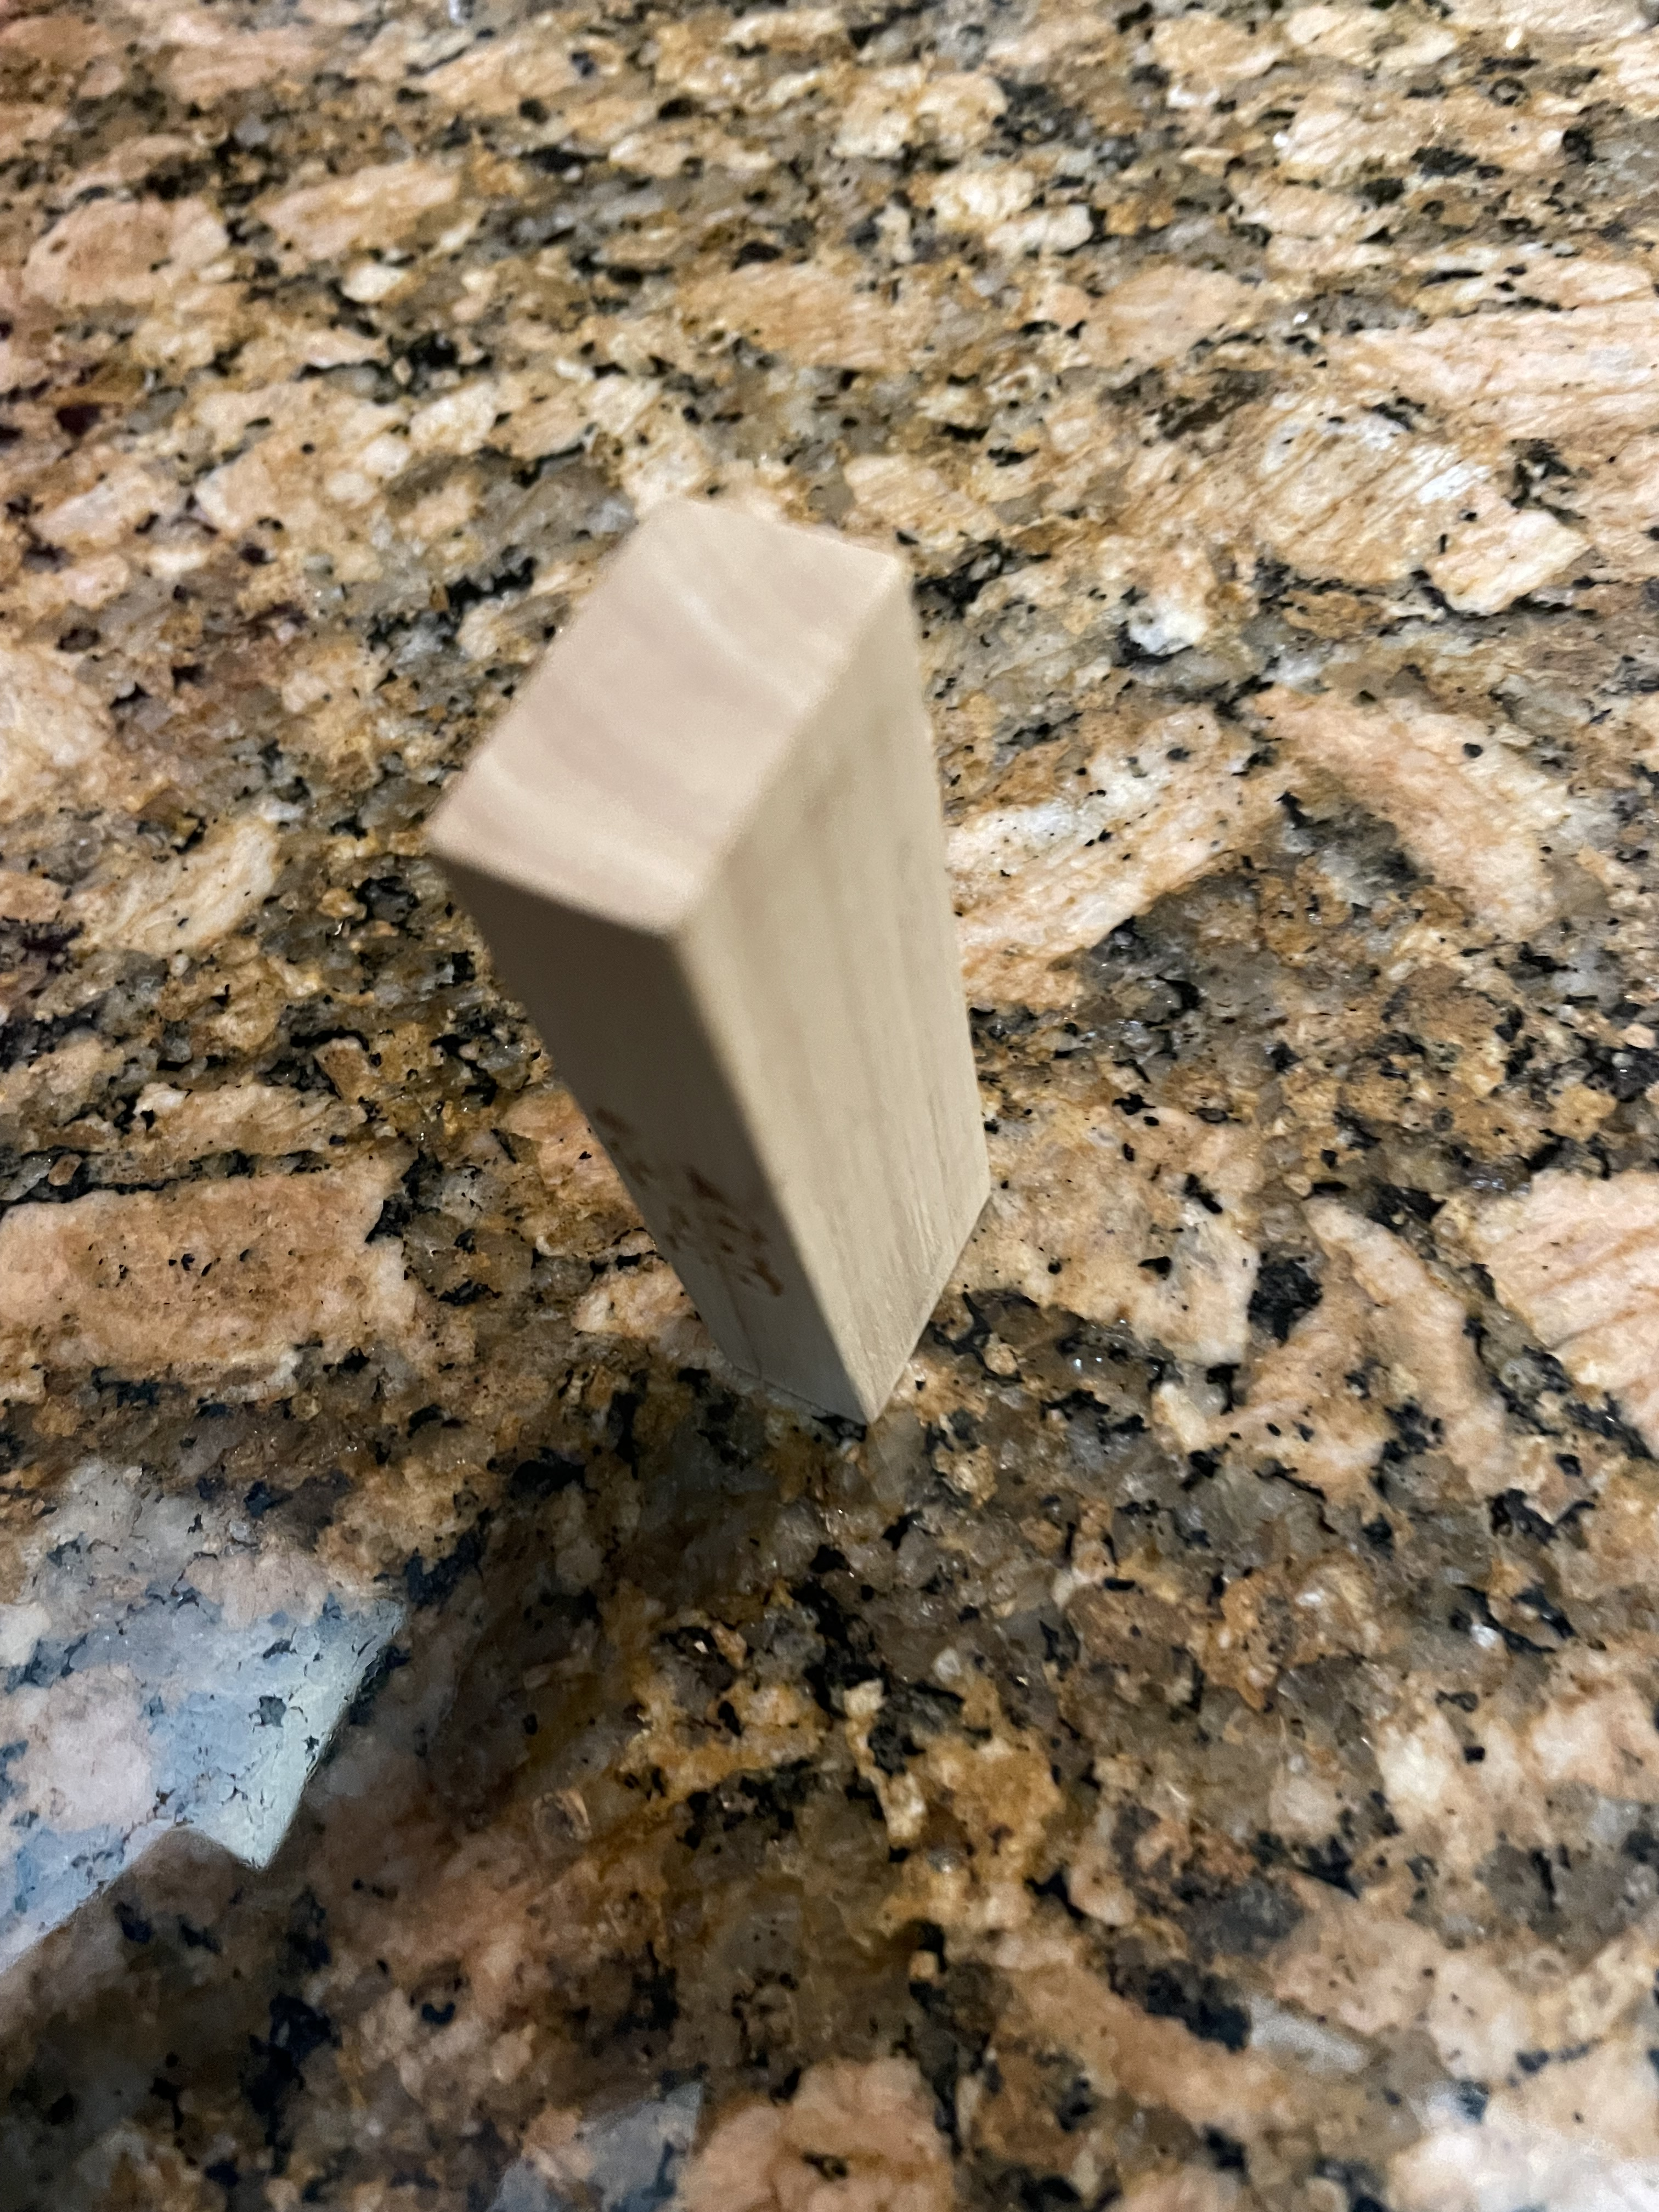jenga: (420, 502, 962, 1397)
